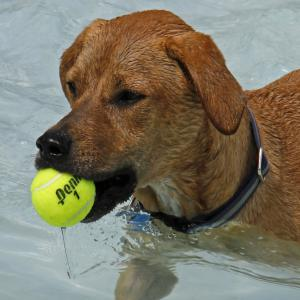TennisBall: (31, 168, 97, 228)
